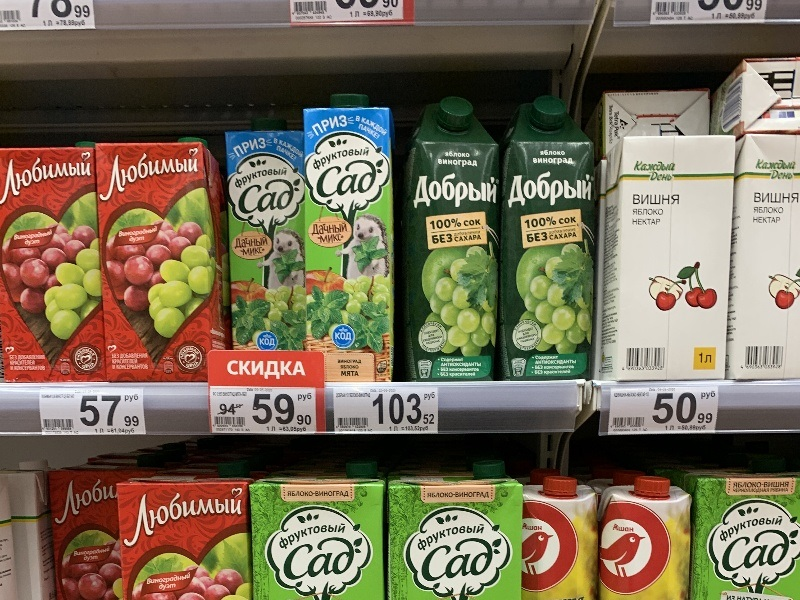juice: (94, 133, 235, 395), (297, 90, 401, 389), (1, 132, 118, 395), (496, 94, 600, 389), (402, 94, 503, 387)
